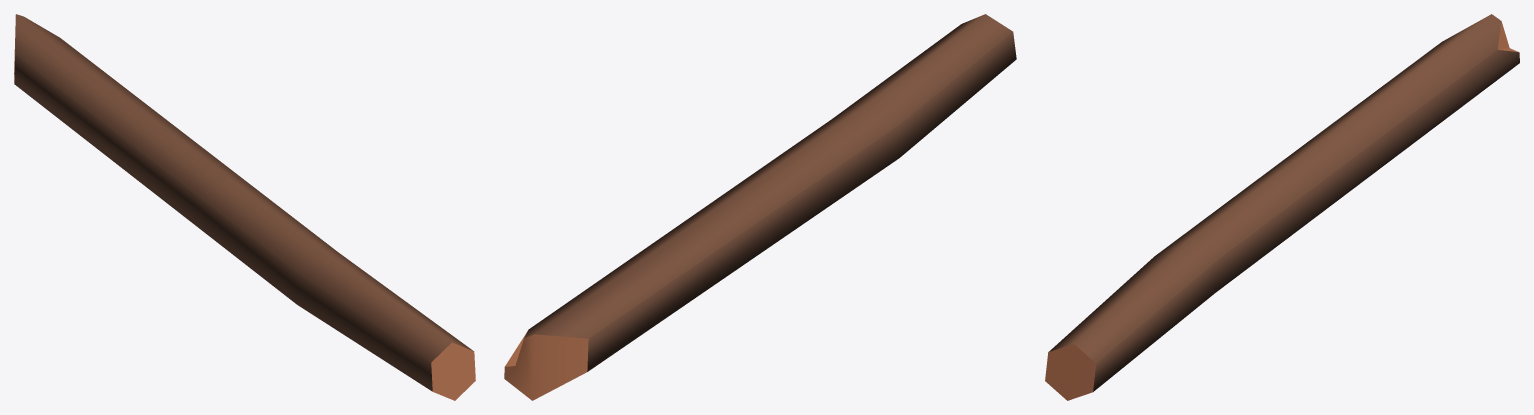
The model's file is Tree_Log_2C.fbx.
3 renders of one model, left to right at view 1: azimuth 30°, elevation 25°; view 2: azimuth 150°, elevation 25°; view 3: azimuth 330°, elevation 25°, orthographic. The views are drawn at different scales.
Parts seen in each view (by area): view 1: Tree_Log_2C; view 2: Tree_Log_2C; view 3: Tree_Log_2C.
Part boxes in pixels (x1,y1,x2,y2): Tree_Log_2C: (14, 14, 475, 400); Tree_Log_2C: (504, 14, 1016, 400); Tree_Log_2C: (1045, 14, 1519, 400).
Size of the model in its own units: 0.293 by 0.3345 by 3.71.
